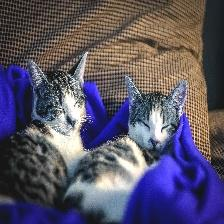kedo: (3, 53, 87, 204), (125, 75, 186, 157)
